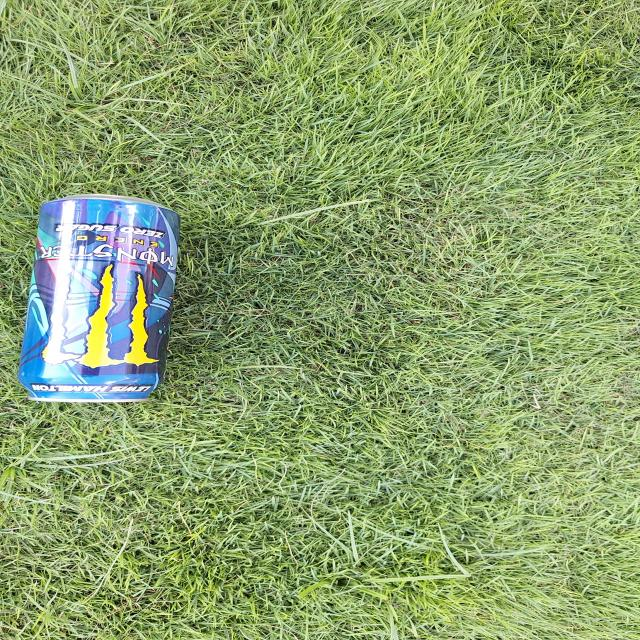Monster LH44: (21, 198, 176, 403)
